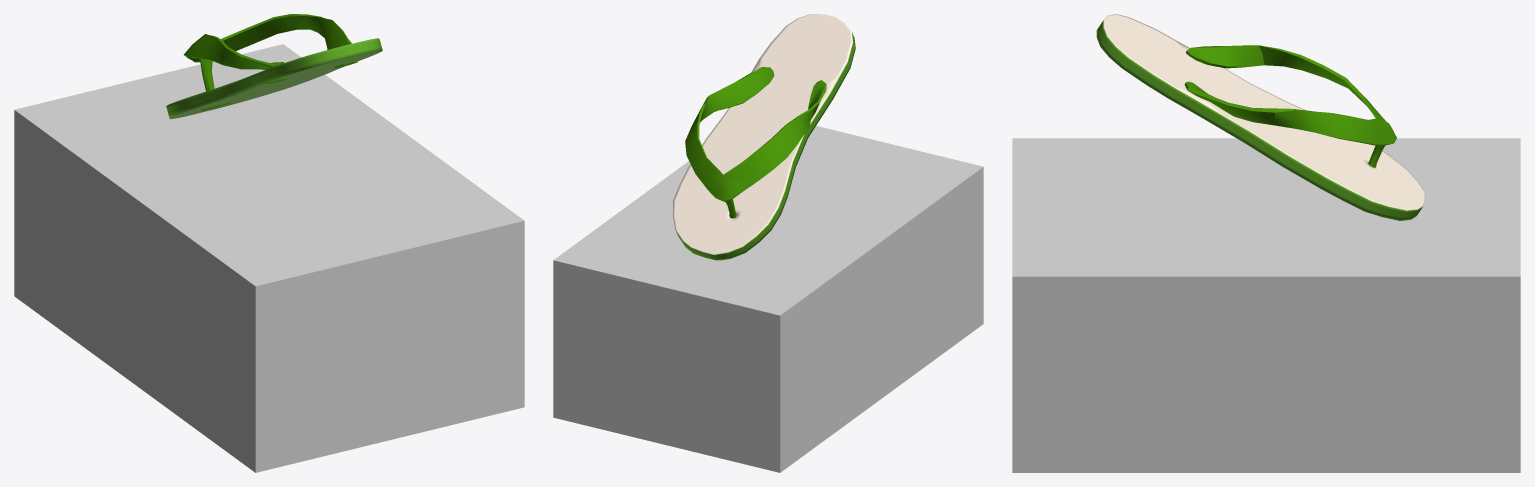
Rendered from sendal.glb.
3 views of the same model, side by side, from view 1: azimuth 30°, elevation 25°; view 2: azimuth 150°, elevation 25°; view 3: azimuth 270°, elevation 25° (orthographic). The views are drawn at different scales.
Visible parts, largest first — view 1: Cube, alas, tali; view 2: Cube, alas, tali; view 3: Cube, alas, tali.
Part boxes in pixels (left/top/right/bottom): Cube: left=14, top=44, right=524, bottom=472; alas: left=166, top=38, right=382, bottom=119; tali: left=183, top=14, right=358, bottom=110; Cube: left=553, top=126, right=983, bottom=472; alas: left=672, top=14, right=855, bottom=260; tali: left=685, top=67, right=826, bottom=218; Cube: left=1012, top=138, right=1520, bottom=472; alas: left=1096, top=14, right=1425, bottom=220; tali: left=1184, top=45, right=1396, bottom=167.
Size of the model in its own units: 3.02 by 3.9 by 4.69.
